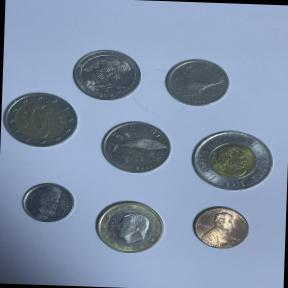coin: (184, 124, 276, 198), (88, 196, 170, 258), (0, 89, 79, 153), (96, 118, 174, 180), (68, 44, 145, 104), (186, 202, 253, 252), (18, 178, 78, 226)
